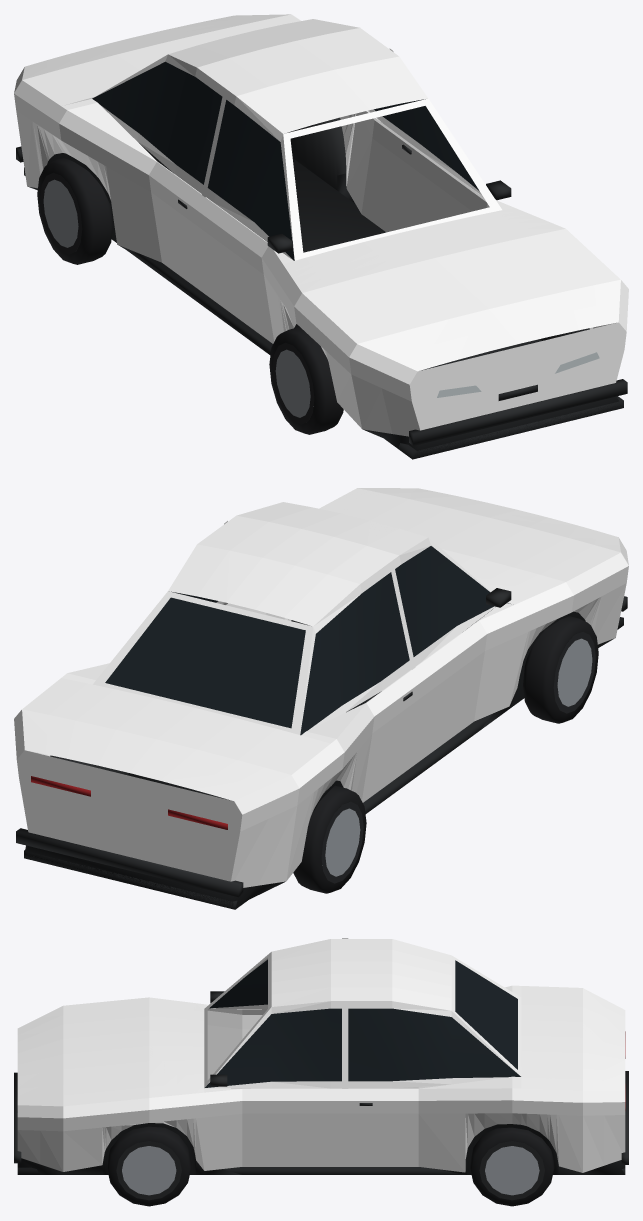
The model's file is garrison_vendaval.glb.
3 renders of one model, top to bottom at view 1: azimuth 30°, elevation 25°; view 2: azimuth 150°, elevation 25°; view 3: azimuth 270°, elevation 25°, orthographic. The views are drawn at different scales.
Parts seen in each view (by area): view 1: Body_Paint, Body_Details, Mount_RearLeft_Wheel_Details, Mount_FrontLeft_Wheel_Details; view 2: Body_Paint, Body_Details, Mount_FrontLeft_Wheel_Details, Mount_RearLeft_Wheel_Details; view 3: Body_Paint, Body_Details, Mount_FrontRight_Wheel_Details, Mount_RearRight_Wheel_Details.
Boxes of the visible parts, x1,y1,x2,y2 form: Body_Paint: [14, 14, 628, 436]; Body_Details: [16, 61, 627, 459]; Mount_RearLeft_Wheel_Details: [37, 158, 112, 264]; Mount_FrontLeft_Wheel_Details: [269, 327, 343, 434]; Body_Paint: [14, 488, 628, 887]; Body_Details: [16, 546, 627, 909]; Mount_FrontLeft_Wheel_Details: [523, 616, 598, 723]; Mount_RearLeft_Wheel_Details: [293, 785, 366, 893]; Body_Paint: [17, 938, 625, 1172]; Body_Details: [14, 959, 628, 1174]; Mount_FrontRight_Wheel_Details: [107, 1126, 191, 1206]; Mount_RearRight_Wheel_Details: [470, 1127, 554, 1206].
Bounding box in the file's own units: 1.96 × 1.57 × 4.68.
Materials: 2 (1 with a texture image).
